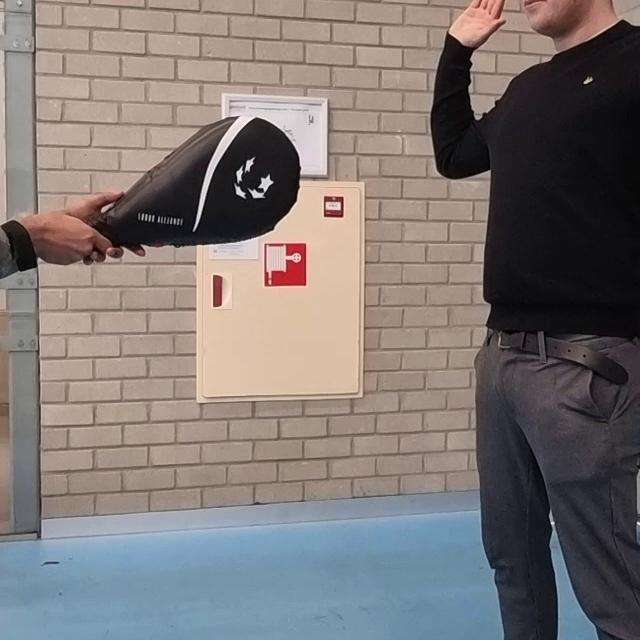paddle: (92, 115, 300, 249)
